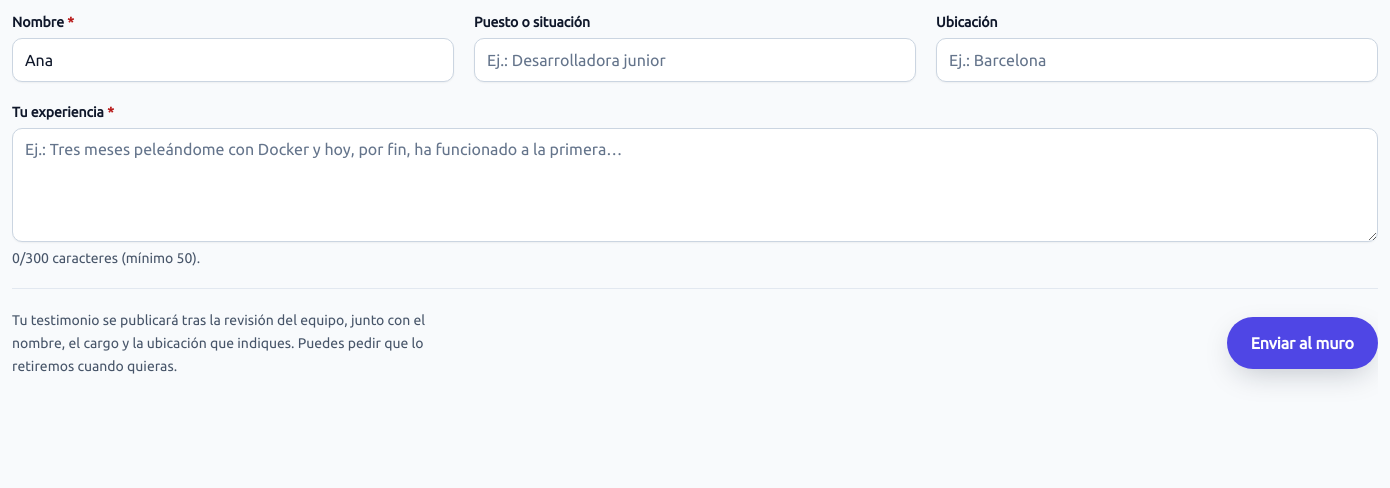
Scenario: TestimonialForm › avisa de que se publicará tras la revisión
This screenshot has width=1390, height=488.
Type "Tres meses peleándome con Docker y hoy, por fin, ha funcionado a la primera. ¡Seguimos!" into the text box labelled "Tu experiencia *" at (695, 185), box [12,128,1378,242]
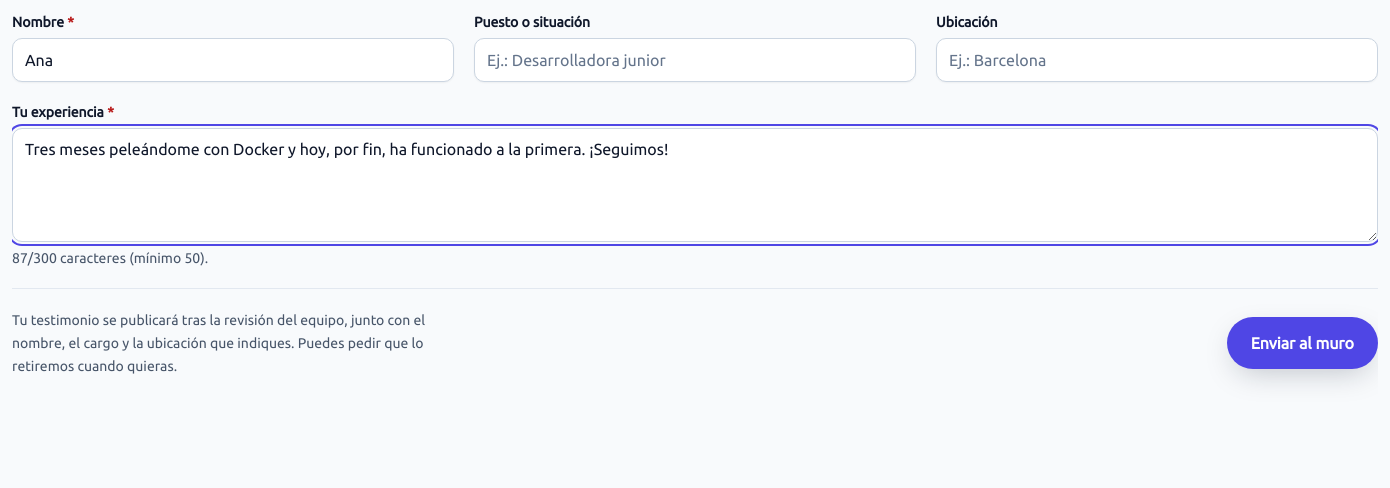
Click the button "Enviar al muro" at (1302, 343), box [1227,317,1378,369]
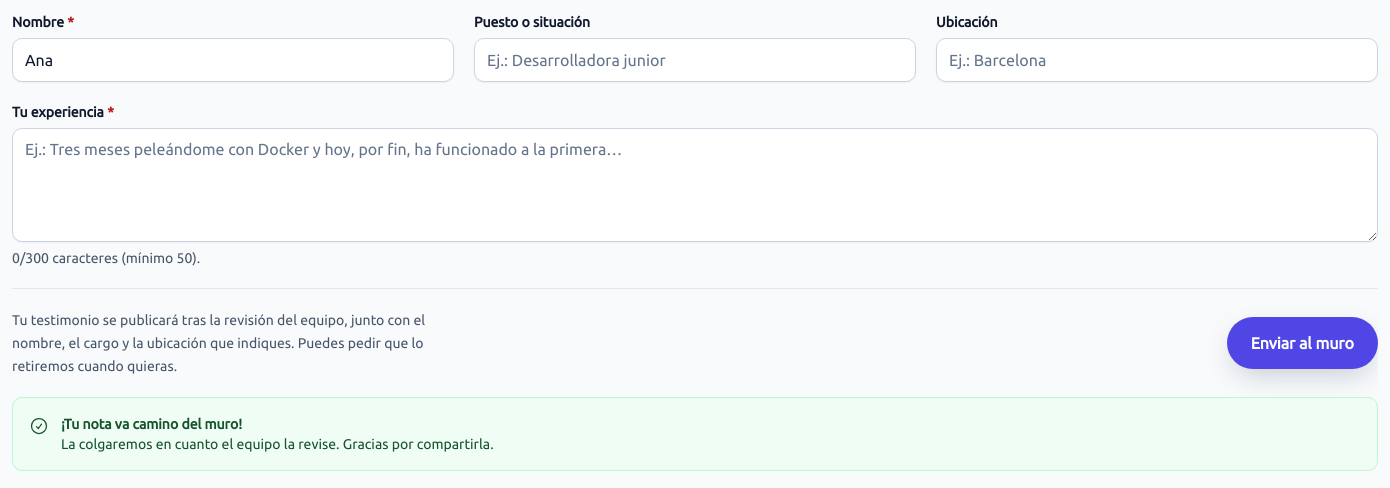
Check: the text "¡Tu nota va camino del muro!" is shown, box [61,416,242,432]
